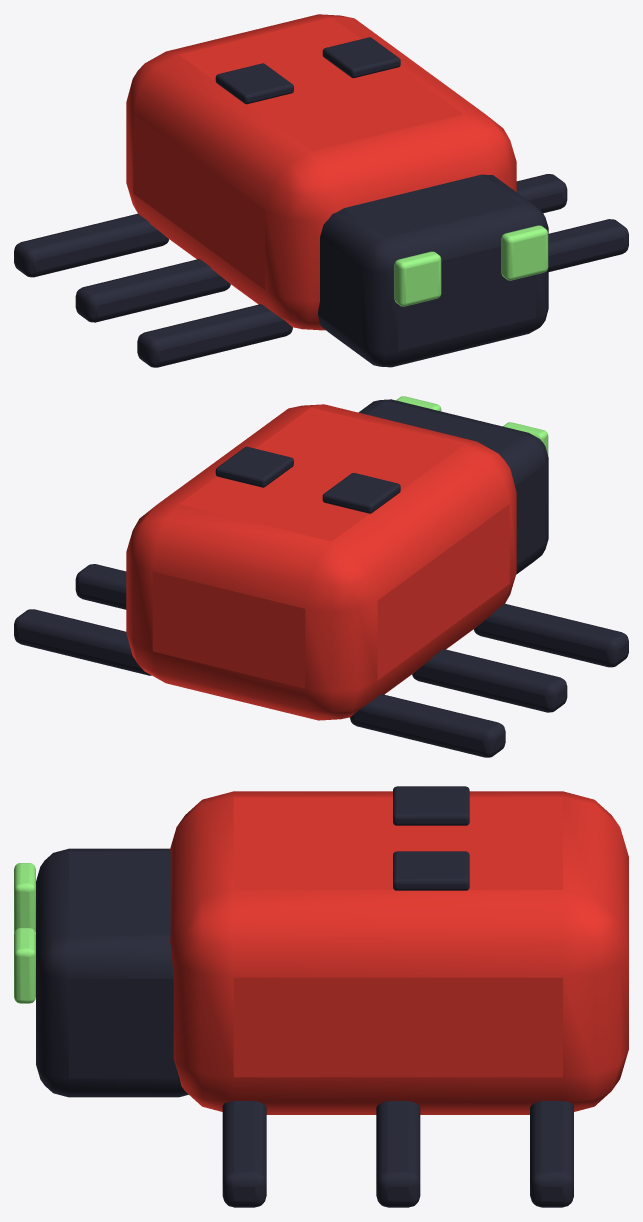
The model's file is bug.glb.
The picture shows the model from 3 angles, top to bottom: view 1: azimuth 30°, elevation 25°; view 2: azimuth 150°, elevation 25°; view 3: azimuth 270°, elevation 25°; orthographic projection. The views are drawn at different scales.
Visible parts, largest first — view 1: Shell, BugHead, BugLeg.002, BugLeg.001, BugLeg, BugLeg.005, Eye.001, Eye, Spot, Spot.001, BugLeg.004; view 2: Shell, BugHead, BugLeg, BugLeg.001, BugLeg.002, BugLeg.003, Spot, Spot.001, BugLeg.004; view 3: Shell, BugHead, BugLeg.005, BugLeg.004, BugLeg.003, Spot.001, Spot, Eye.001, Eye.
Part boxes in pixels (x1,y1,x2,y2): Shell: (126, 14, 516, 330); BugHead: (318, 174, 548, 367); BugLeg.002: (137, 304, 292, 367); BugLeg.001: (75, 259, 230, 322); BugLeg: (14, 213, 168, 277); BugLeg.005: (548, 219, 628, 271); Eye.001: (501, 225, 548, 280); Eye: (394, 251, 441, 306); Spot: (215, 63, 293, 104); Spot.001: (322, 37, 400, 78); BugLeg.004: (516, 174, 567, 213); Shell: (126, 404, 516, 720); BugHead: (358, 399, 548, 574); BugLeg: (350, 694, 505, 757); BugLeg.001: (412, 649, 567, 712); BugLeg.002: (474, 603, 628, 667); BugLeg.003: (14, 609, 151, 675); Spot: (322, 473, 400, 513); Spot.001: (215, 446, 293, 487); BugLeg.004: (75, 564, 126, 609); Shell: (170, 791, 628, 1114); BugHead: (36, 848, 188, 1097); BugLeg.005: (222, 1101, 266, 1207); BugLeg.004: (376, 1101, 420, 1207); BugLeg.003: (530, 1101, 573, 1207); Spot.001: (393, 851, 469, 890); Spot: (393, 786, 469, 825); Eye.001: (14, 927, 35, 1003); Eye: (14, 863, 35, 932).
Size of the model in its own units: 0.63 by 0.2335 by 0.56.
